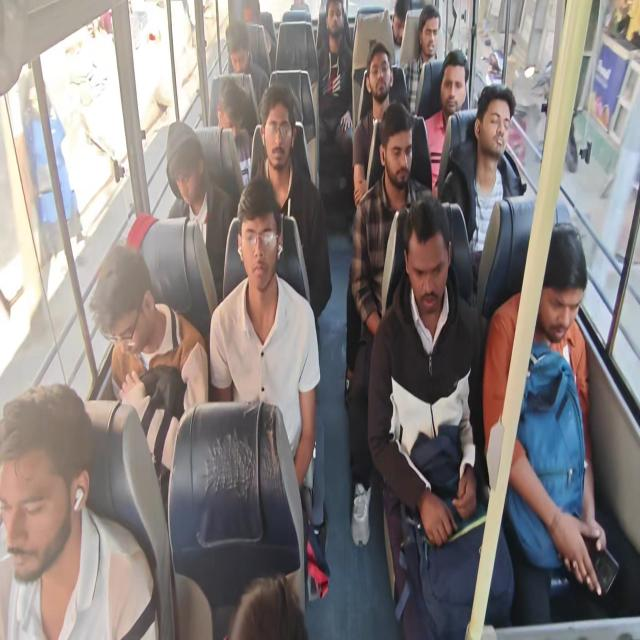person: (366, 195, 514, 638), (482, 220, 607, 622), (0, 382, 159, 639), (345, 100, 434, 546), (209, 177, 321, 492), (88, 240, 208, 518), (249, 84, 332, 326), (449, 83, 522, 289), (165, 120, 236, 302), (352, 42, 410, 207), (316, 0, 354, 225), (422, 49, 469, 195), (224, 572, 308, 639), (402, 4, 441, 115), (215, 78, 252, 186), (225, 18, 269, 106)
